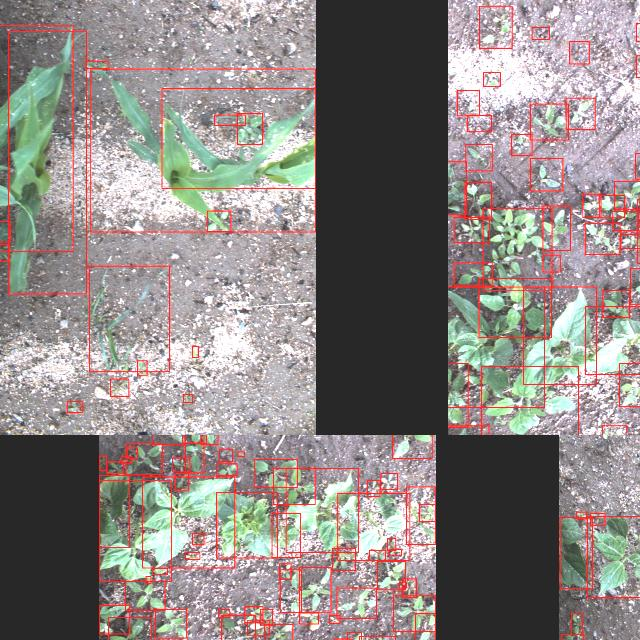crop: (90, 68, 316, 232), (8, 30, 86, 294), (0, 26, 73, 252), (162, 88, 316, 188), (448, 286, 544, 407), (142, 477, 235, 568), (99, 481, 171, 582), (524, 288, 596, 384), (481, 366, 578, 435), (286, 468, 358, 552), (338, 494, 410, 560), (587, 516, 640, 597), (216, 492, 278, 558), (584, 306, 640, 374), (560, 518, 592, 588), (99, 475, 129, 547), (272, 513, 300, 557)
weed: (89, 266, 170, 372), (482, 208, 552, 290), (478, 278, 552, 338), (406, 487, 436, 545), (273, 468, 315, 504), (394, 596, 436, 632), (478, 6, 512, 48), (299, 568, 331, 612), (530, 104, 568, 140), (542, 206, 570, 250), (448, 363, 467, 427), (255, 459, 298, 487), (337, 588, 377, 618), (125, 582, 165, 610), (584, 223, 620, 254), (530, 158, 562, 192), (126, 444, 162, 474), (464, 182, 492, 220), (107, 617, 150, 640), (448, 161, 466, 214), (619, 363, 640, 407), (280, 570, 302, 612), (393, 435, 433, 458), (454, 262, 492, 286), (99, 604, 129, 634), (566, 98, 594, 130), (155, 610, 187, 638), (453, 218, 489, 242), (221, 615, 255, 640), (602, 290, 630, 318), (378, 562, 406, 590), (466, 144, 492, 172), (614, 181, 640, 209), (184, 435, 203, 473), (238, 114, 262, 144), (599, 195, 625, 218), (457, 90, 479, 116), (416, 613, 436, 640), (332, 548, 356, 570), (613, 211, 639, 231), (207, 211, 231, 231), (264, 624, 293, 640), (466, 115, 492, 132), (569, 42, 589, 64), (512, 134, 532, 156), (583, 195, 601, 218), (630, 267, 640, 304), (247, 620, 269, 636), (152, 435, 185, 445), (110, 378, 128, 396), (542, 254, 560, 272), (214, 115, 246, 125), (380, 473, 398, 489), (420, 504, 436, 522), (245, 607, 263, 623), (621, 233, 640, 248), (403, 578, 417, 598), (172, 458, 190, 472), (216, 463, 237, 475), (570, 614, 582, 634), (484, 72, 501, 86), (601, 426, 626, 435), (174, 474, 188, 490), (106, 462, 124, 474), (300, 612, 318, 624), (260, 608, 272, 626), (532, 27, 548, 39), (182, 435, 206, 443), (368, 481, 380, 497), (279, 564, 291, 580), (0, 222, 9, 242), (86, 61, 108, 69), (220, 448, 232, 462), (590, 513, 604, 525), (66, 402, 82, 412), (137, 360, 147, 376), (370, 550, 386, 560), (200, 435, 217, 444), (0, 244, 8, 261), (561, 634, 583, 640), (184, 552, 200, 560), (192, 534, 204, 544), (346, 632, 361, 640), (388, 538, 397, 550), (636, 153, 640, 178), (127, 448, 137, 458), (98, 456, 105, 470), (152, 568, 168, 574), (218, 609, 230, 617), (388, 550, 402, 556), (121, 456, 131, 464), (330, 615, 340, 623), (636, 24, 640, 42), (192, 347, 198, 358), (184, 394, 192, 402), (576, 512, 586, 518), (399, 582, 406, 588), (146, 576, 150, 584), (238, 452, 245, 456)
